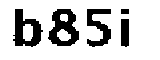5: (80, 4, 115, 52)
8: (48, 7, 80, 51)
b: (7, 4, 45, 51)
i: (119, 5, 135, 55)
